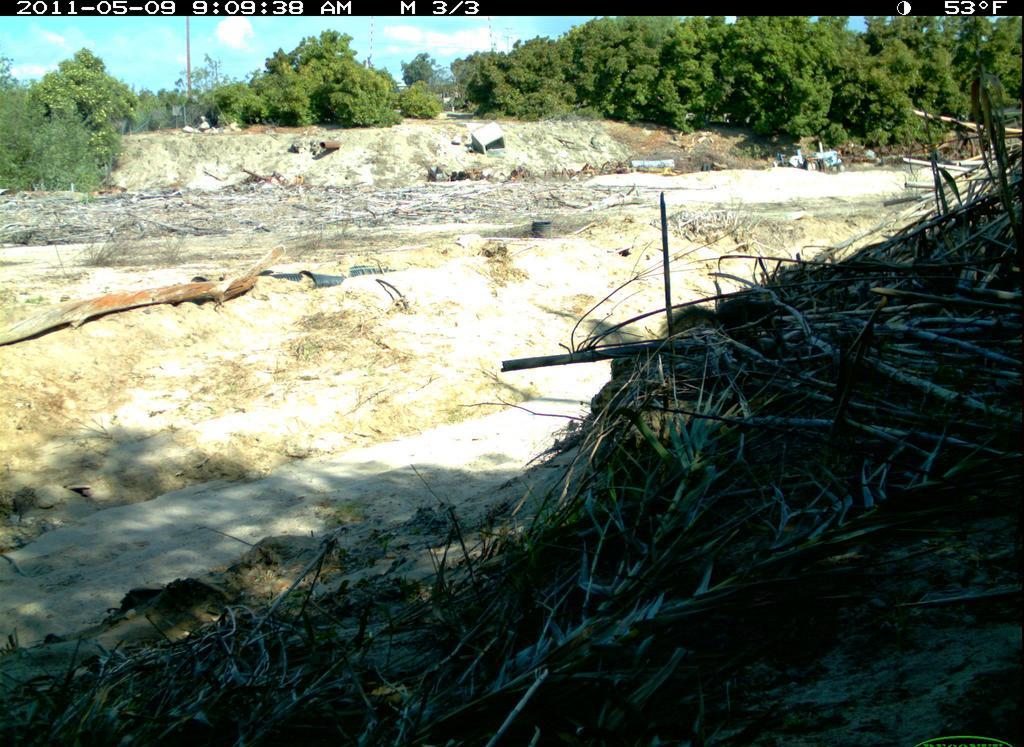squirrel: (630, 281, 811, 364)
